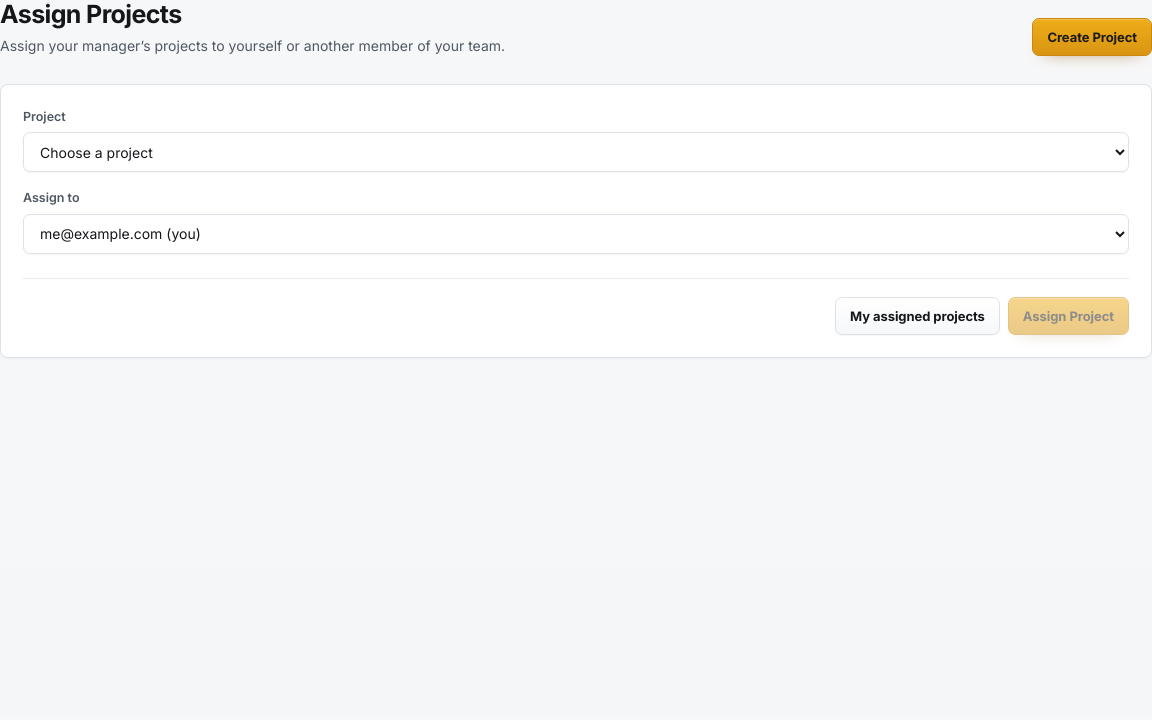
Test: unassigns explicitly before enabling assignment
This screenshot has width=1152, height=720.
Select "Assigned — taken.com" in the dropdown labelled "Project" at x=576, y=152, box [23,132,1129,172]
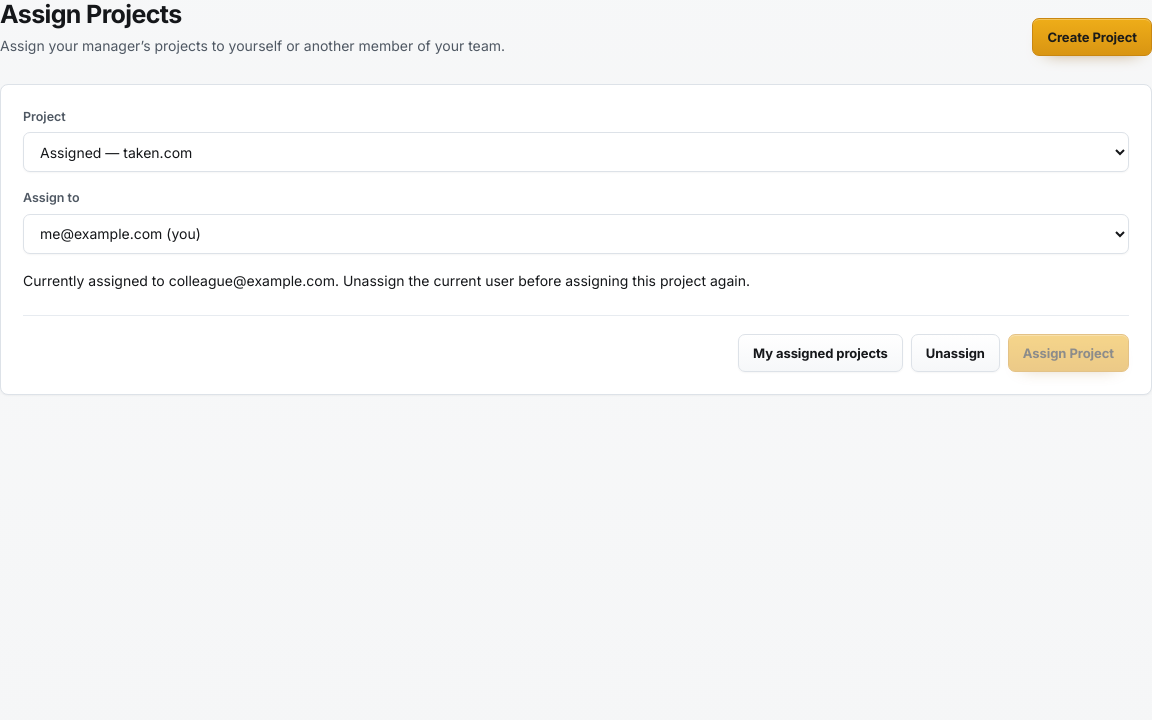
Click the button "Unassign" at x=955, y=353, box [911,334,1000,372]
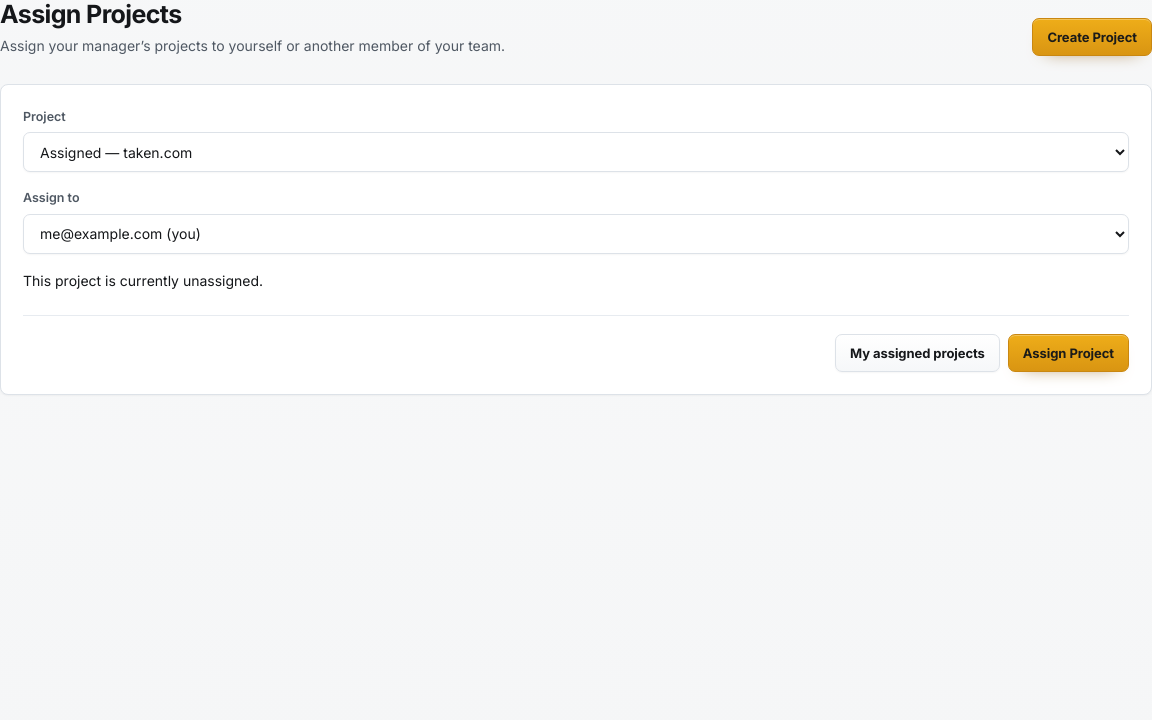
Now the button "Assign Project" is enabled, box [1008,334,1129,372]
